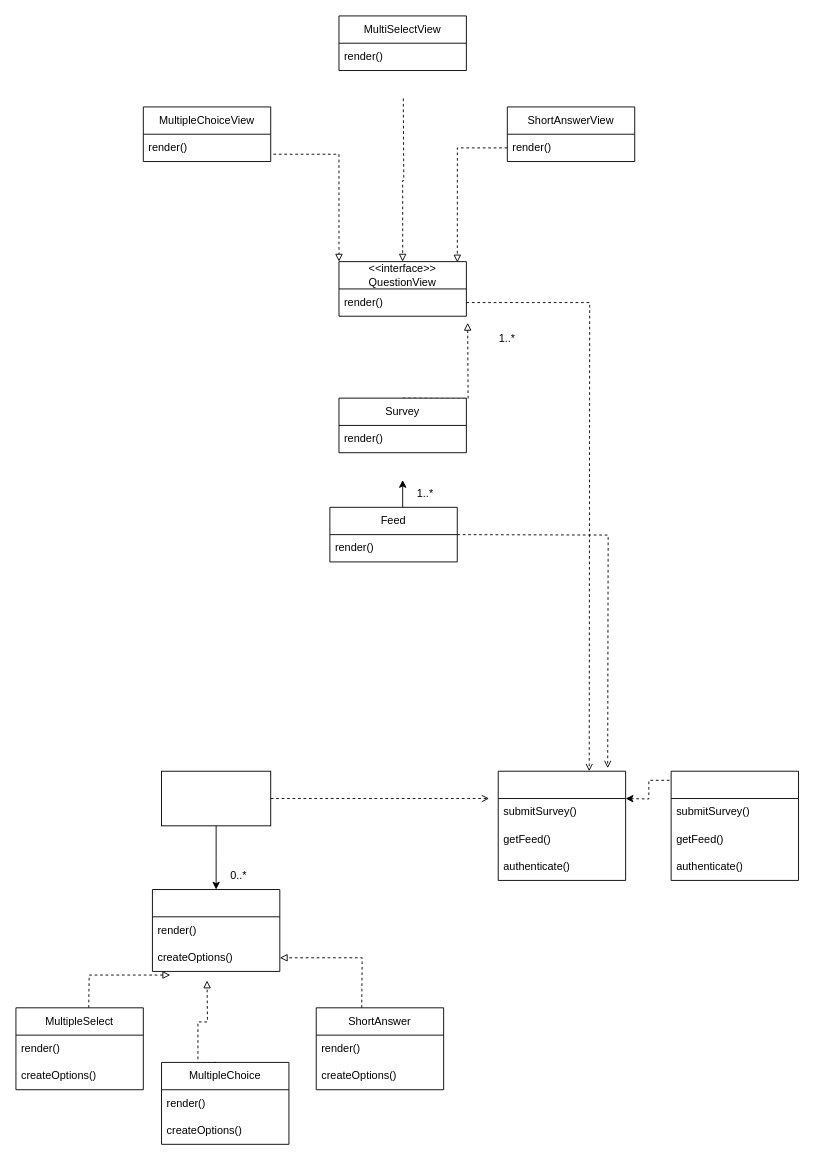
The diagram is 814 pixels wide and 1160 high, and some of its shapes have lost their labels. The shapes that lost their labels are listed below. From the top down, each one's box as (x1, y1, x2, y2) in pixels, then its label:
(161, 770, 271, 826): FormCreation
(497, 770, 626, 880): <<interface>> DatabaseAccess
(670, 770, 799, 880): FirebaseAccess
(152, 889, 280, 971): <<interface>> QuestionCreation
